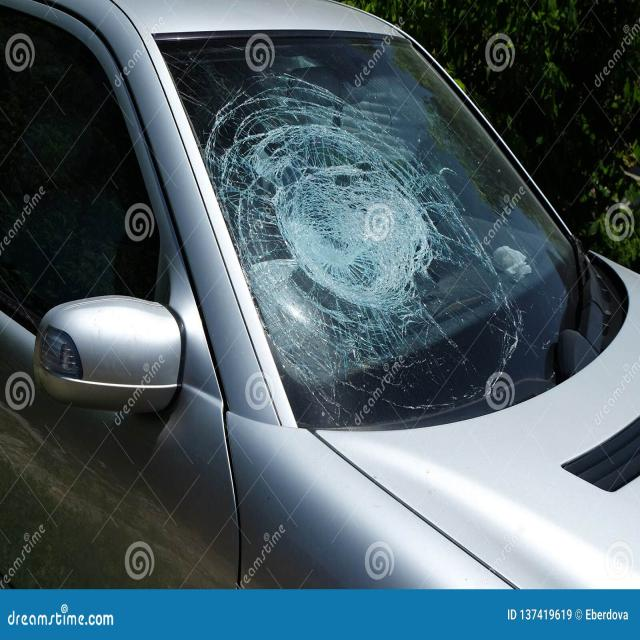crack: (203, 64, 524, 422)
